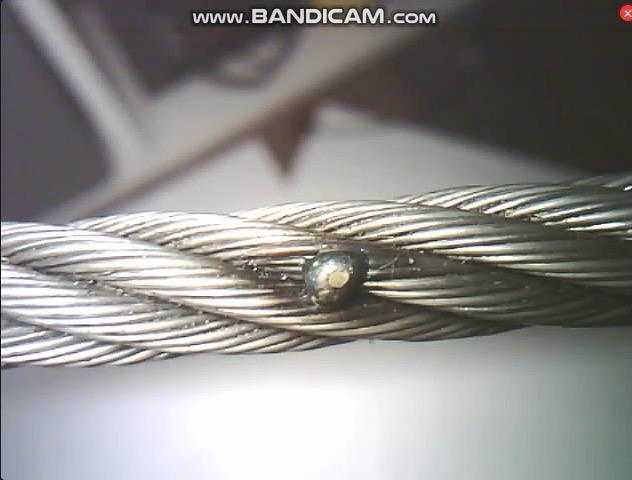thunderbolt: (299, 230, 377, 311)
